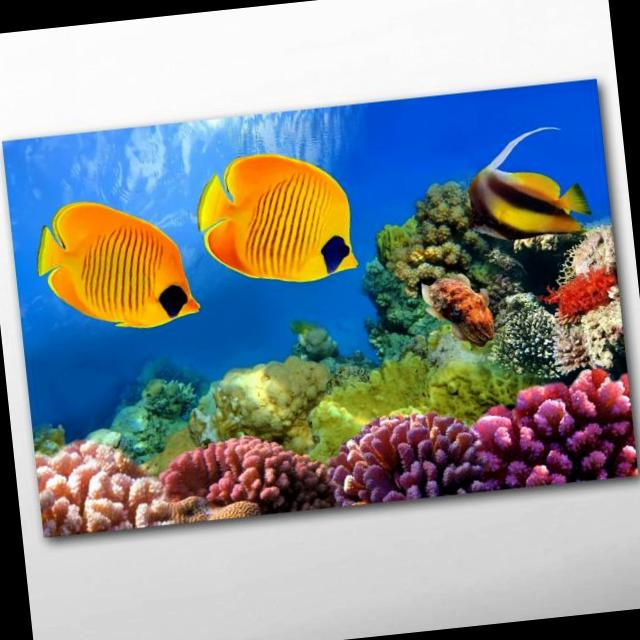ButterflyFish: (19, 178, 202, 364), (184, 138, 373, 308)
MorishIdol: (432, 122, 586, 272)
